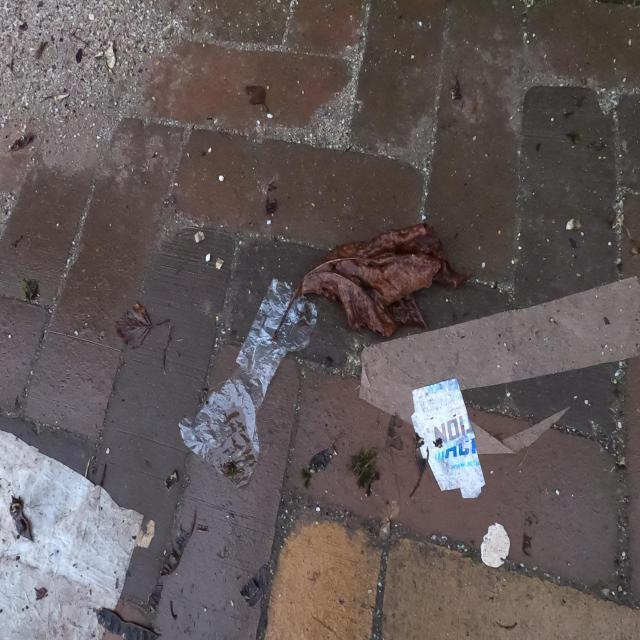Paper: (0, 423, 146, 640), (410, 376, 488, 504), (479, 516, 511, 570)
Plastic: (175, 270, 318, 484)
